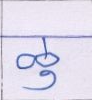u_matra: (20, 70, 60, 92)
